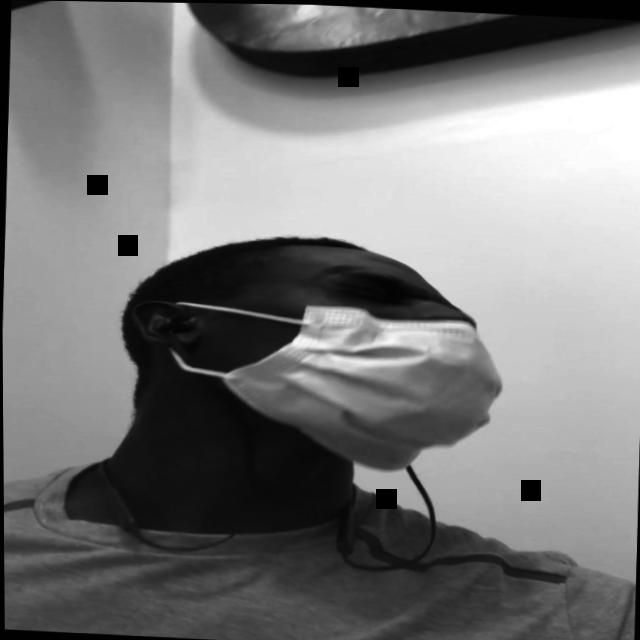Mask: (172, 241, 507, 473)
